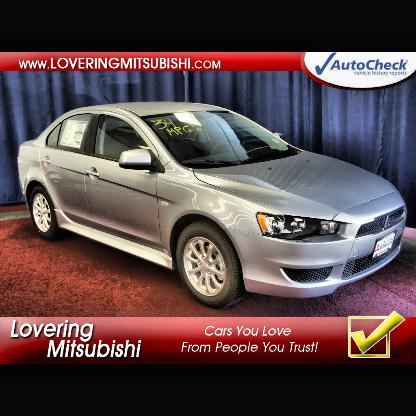Mitsubishi Lancer Sedan 2012: (18, 97, 409, 311)
